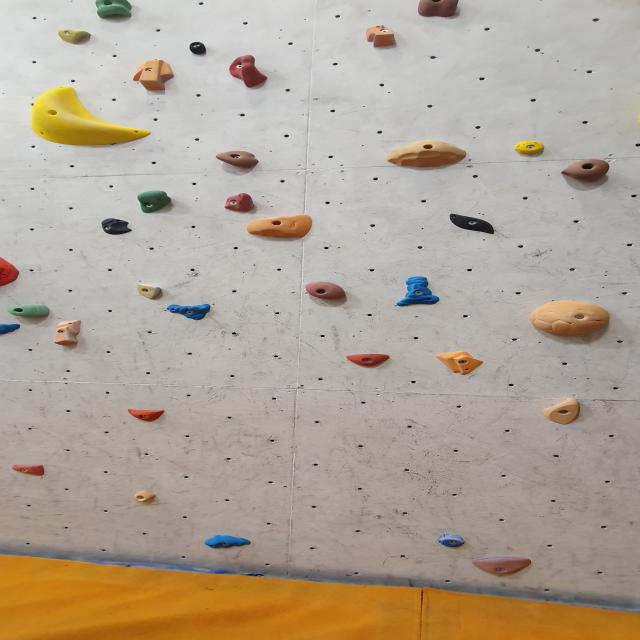Crimp: (469, 556, 534, 576), (359, 26, 404, 50), (94, 218, 140, 235), (202, 534, 254, 549), (342, 353, 392, 368), (165, 305, 214, 320), (511, 140, 548, 157), (124, 410, 169, 423), (132, 283, 166, 300), (8, 464, 47, 476), (436, 534, 467, 548), (131, 490, 159, 504), (0, 322, 25, 336)
Jug: (226, 55, 272, 88), (558, 159, 613, 184), (214, 149, 263, 169), (135, 191, 175, 215), (414, 0, 464, 19), (303, 282, 350, 302), (93, 0, 135, 21), (8, 304, 54, 320), (221, 195, 257, 215)
Pinch: (132, 60, 180, 94), (394, 276, 442, 306), (540, 398, 584, 424), (51, 320, 86, 346), (56, 29, 95, 47), (185, 38, 211, 58)
Sloper: (28, 85, 154, 147), (527, 302, 612, 338), (380, 140, 470, 169), (434, 208, 506, 239), (242, 215, 314, 239), (434, 351, 488, 375)
